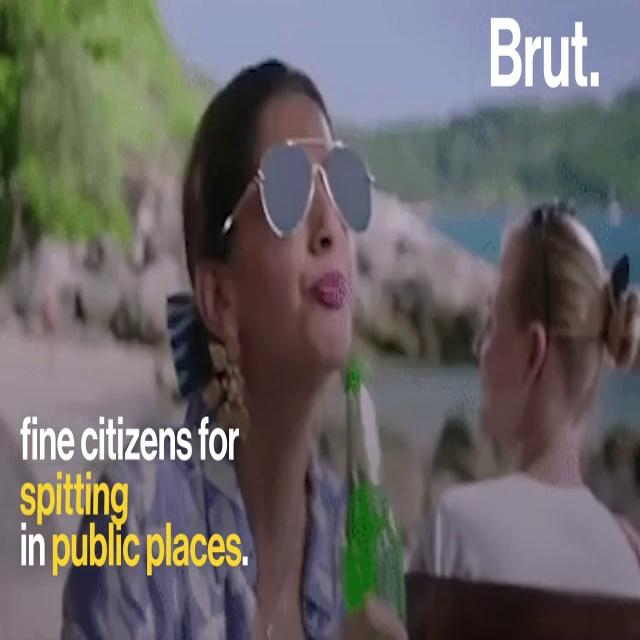spit: (210, 34, 448, 350)
